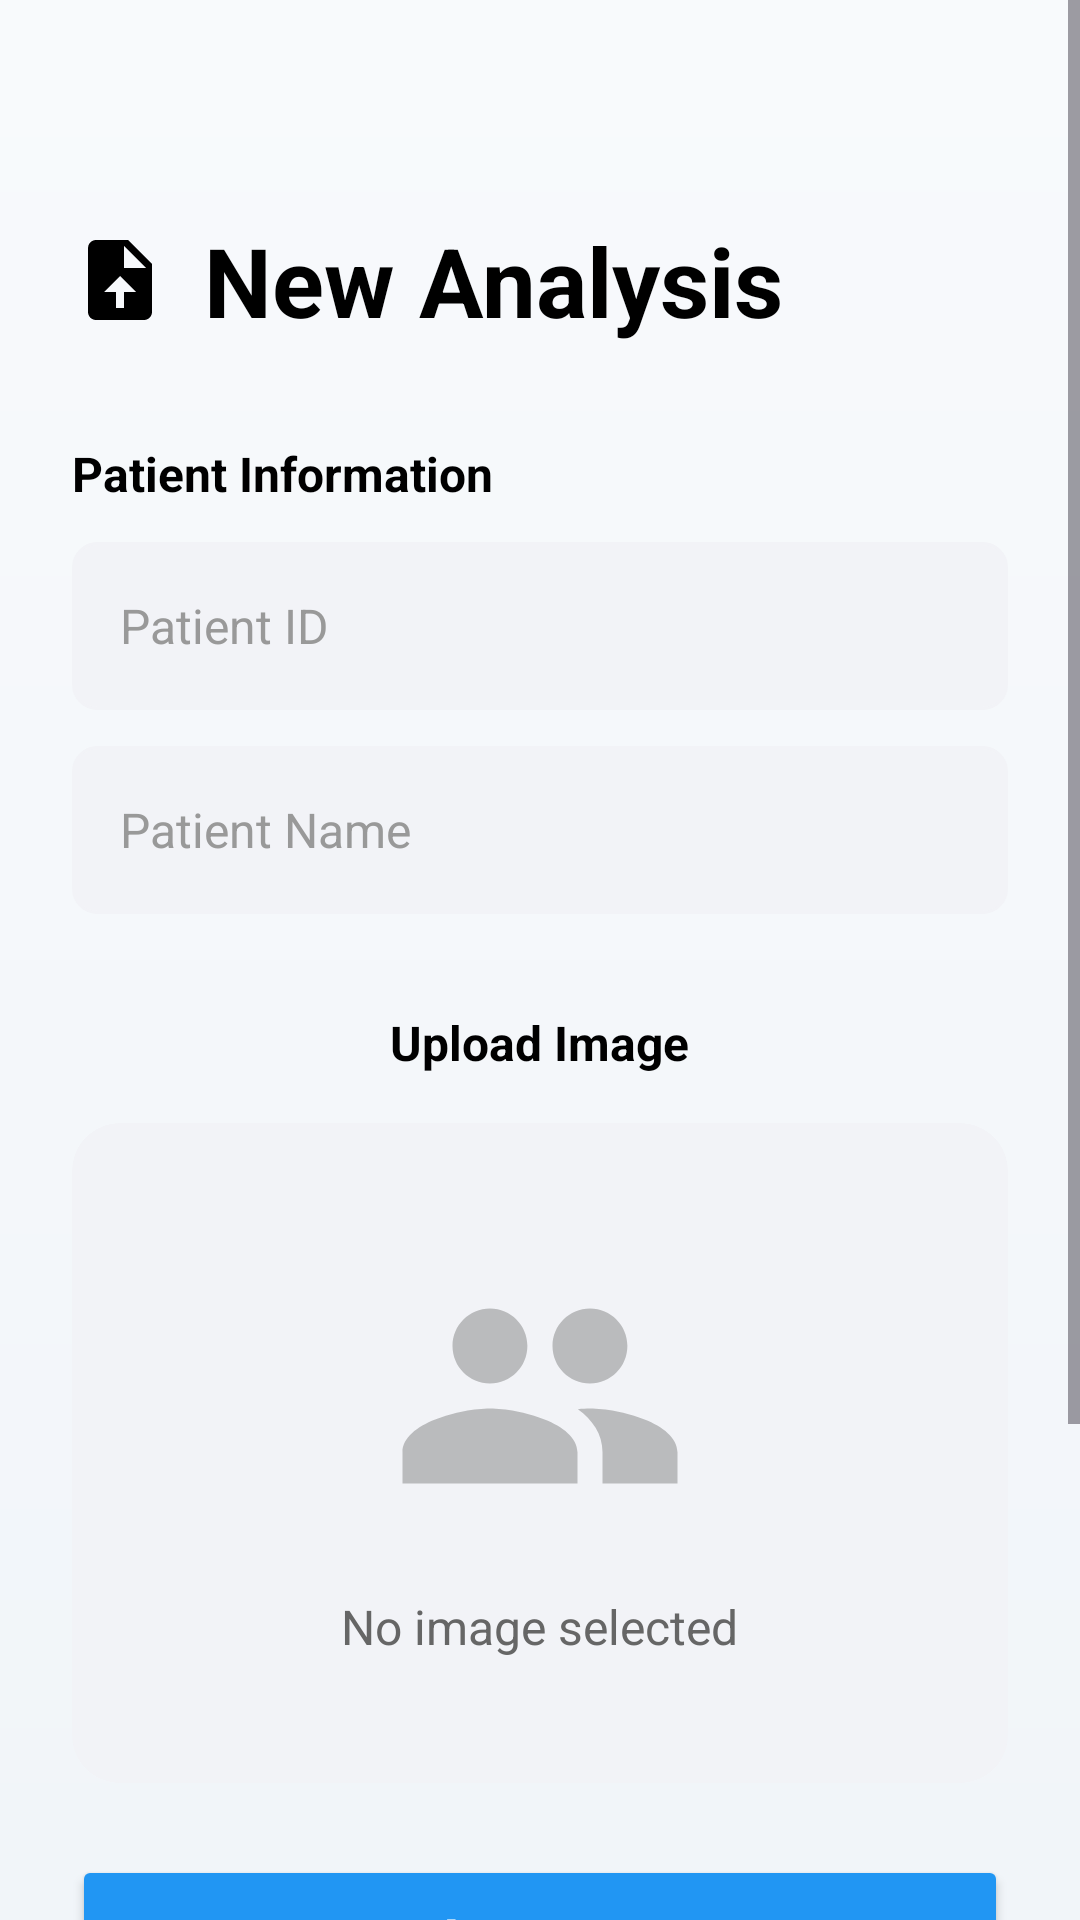

Where icons sit on this 1080x1920 app screen, as box(x1, y1, x2, y2):
group records: box(402, 1308, 678, 1484)
